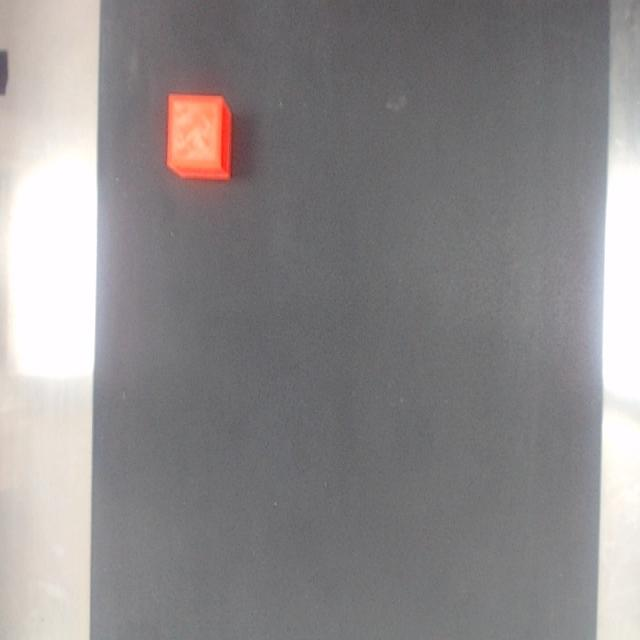Rojo: (167, 93, 231, 179)
